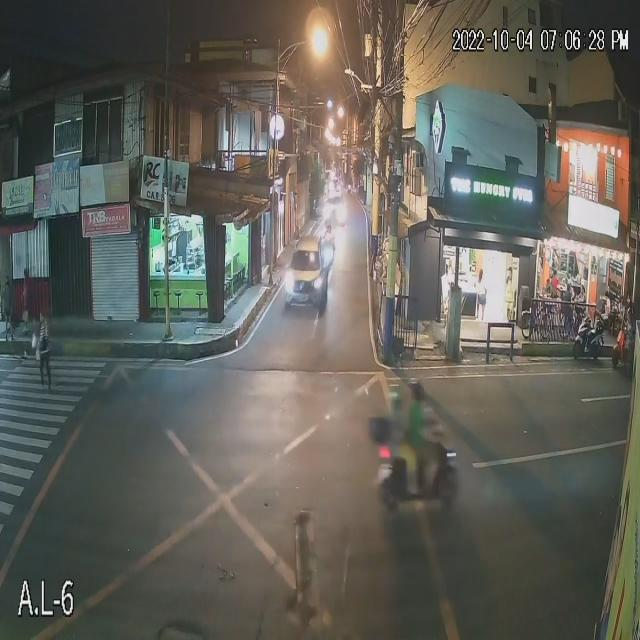helmet: (387, 381, 408, 411), (410, 377, 426, 403)
motorcycle: (368, 442, 459, 517), (571, 317, 605, 363)
rider: (407, 398, 429, 465), (385, 405, 410, 463)
